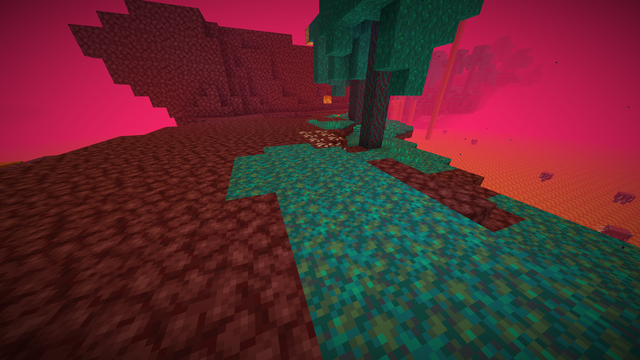quartz: (299, 129, 346, 148)
